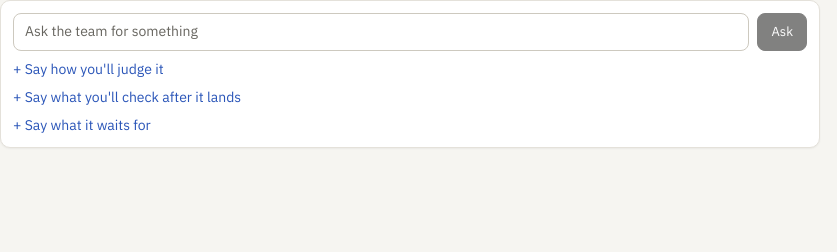
Test: keeps chosen dependencies when current-state validation refuses submission
Type "Use library" into the field named "What do you want?" at [381, 32], box [13,13,750,51]
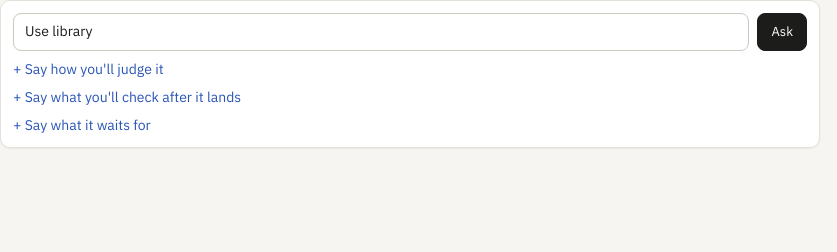
Click the button "+ Say what it waits for" at [82, 125], box [13,115,151,136]
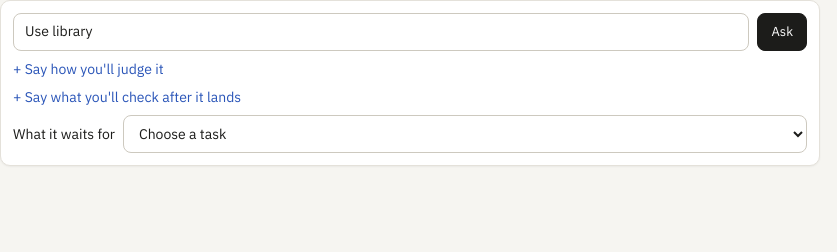
Select "LIB-11 Publish" in the dropdown labelled "What it waits for" at [465, 134], box [123,115,807,153]
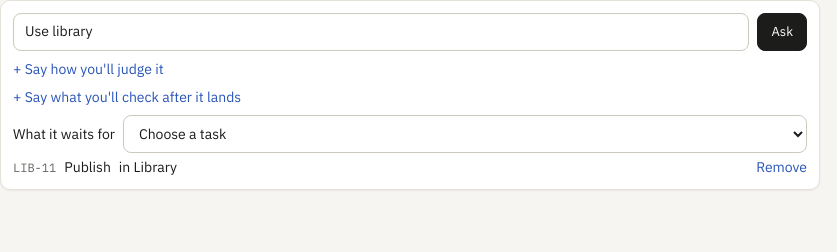
Click the button "Ask" at [782, 32], box [758,13,807,51]
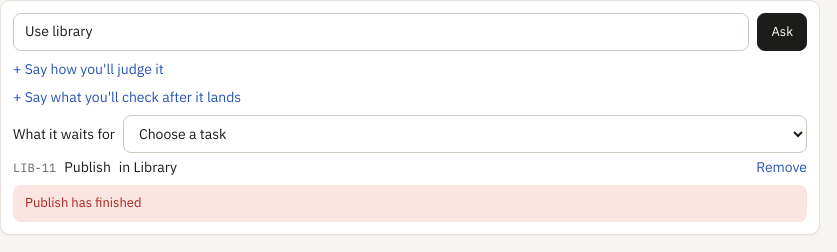
Expected: the text "in Library" is shown, [119,157,177,178]
Expected: the text "Publish has finished" is shown, [13,186,807,222]
